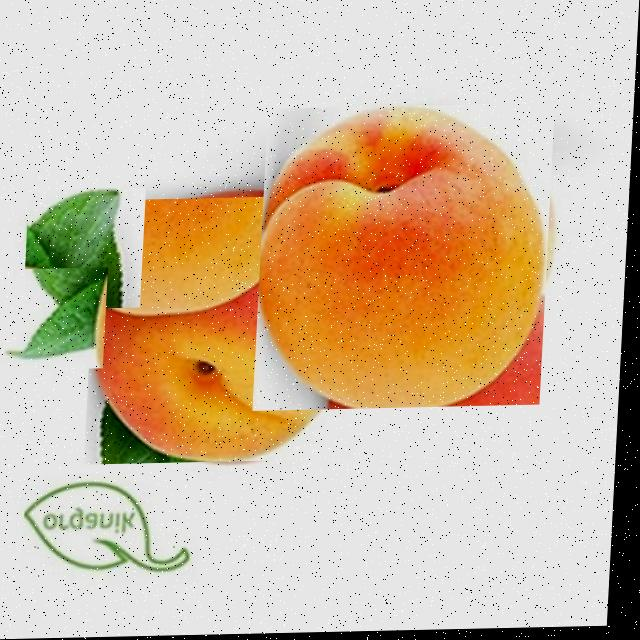Apricot: (263, 108, 551, 408), (94, 197, 371, 462)
Leaf: (28, 472, 218, 583), (25, 189, 149, 310), (19, 268, 111, 370)
